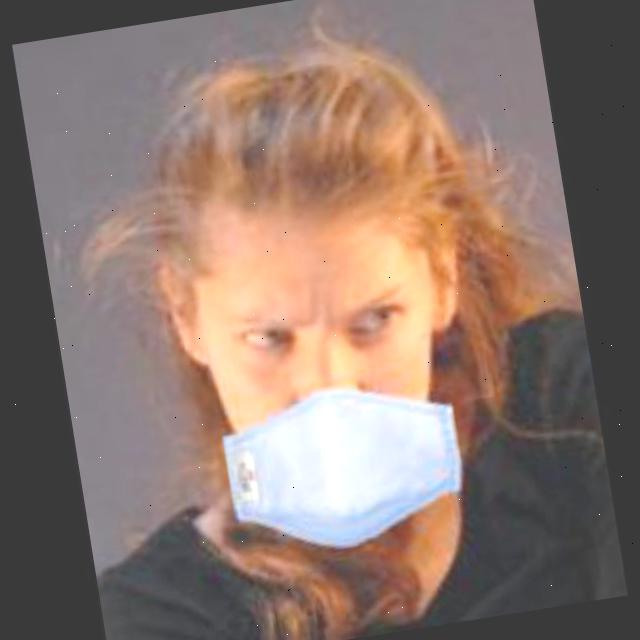suspicion: (79, 58, 544, 589)
